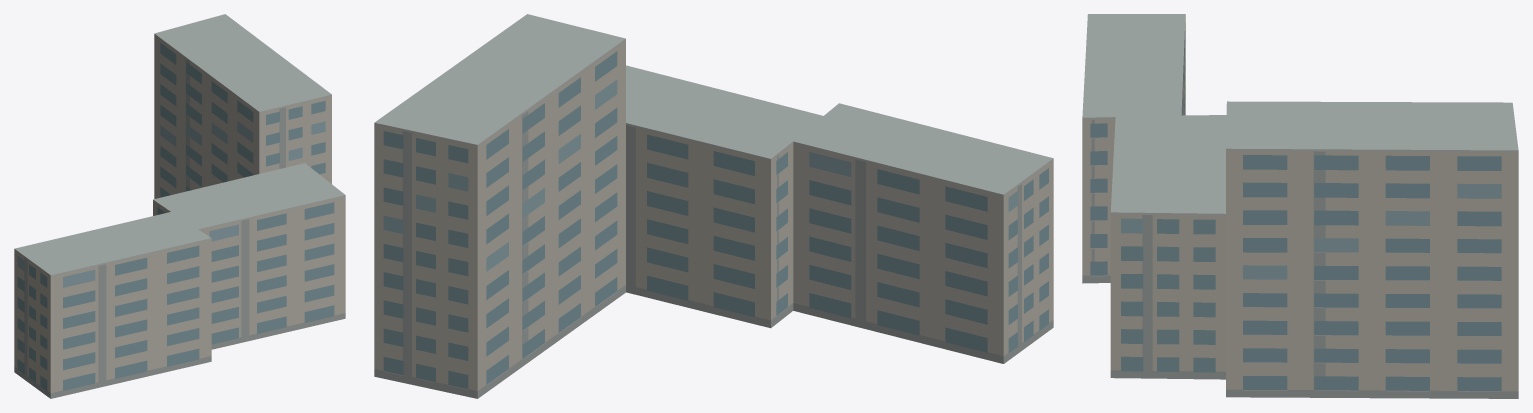
The model's file is residential-e4424a2f-88ee-4d44-b5db-c132ed4798c4.glb.
The picture shows the model from 3 angles, left to right: view 1: azimuth 30°, elevation 25°; view 2: azimuth 150°, elevation 25°; view 3: azimuth 270°, elevation 25°; orthographic projection. The views are drawn at different scales.
Visible parts, largest first — view 1: residential-e4424a2f-88ee-4d44-b5db-c132ed4798c4.tmp; view 2: residential-e4424a2f-88ee-4d44-b5db-c132ed4798c4.tmp; view 3: residential-e4424a2f-88ee-4d44-b5db-c132ed4798c4.tmp.
Boxes of the visible parts, x1=… form: residential-e4424a2f-88ee-4d44-b5db-c132ed4798c4.tmp: x1=14, y1=14, x2=345, y2=398; residential-e4424a2f-88ee-4d44-b5db-c132ed4798c4.tmp: x1=374, y1=14, x2=1053, y2=398; residential-e4424a2f-88ee-4d44-b5db-c132ed4798c4.tmp: x1=1082, y1=14, x2=1518, y2=398.
Size of the model in its own units: 51.94 by 27.45 by 43.67.
